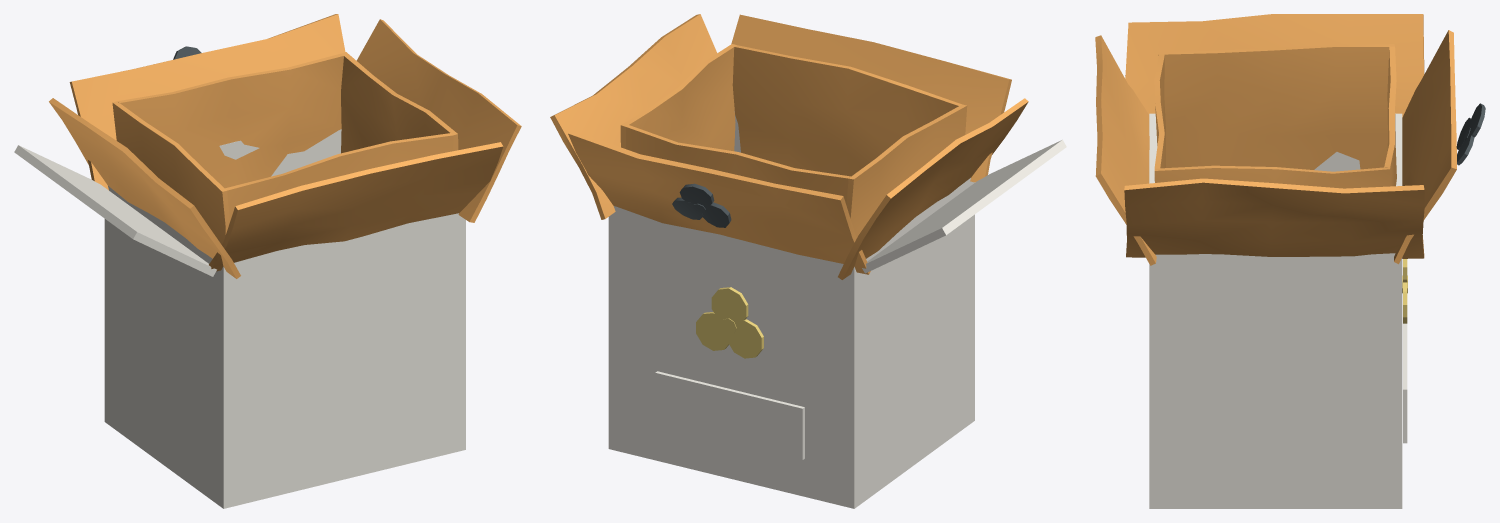
Rendered from sharps_bin.fbx.
3 views of the same model, side by side, from view 1: azimuth 30°, elevation 25°; view 2: azimuth 150°, elevation 25°; view 3: azimuth 270°, elevation 25° (orthographic). The views are drawn at different scales.
Parts seen in each view (by area): view 1: sharps_bin; view 2: sharps_bin; view 3: sharps_bin.
Boxes of the visible parts, x1=… form: sharps_bin: x1=14, y1=14, x2=521, y2=508; sharps_bin: x1=550, y1=14, x2=1066, y2=508; sharps_bin: x1=1095, y1=14, x2=1485, y2=508.
Bounding box in the file's own units: 31.36 × 25.96 × 26.26.
